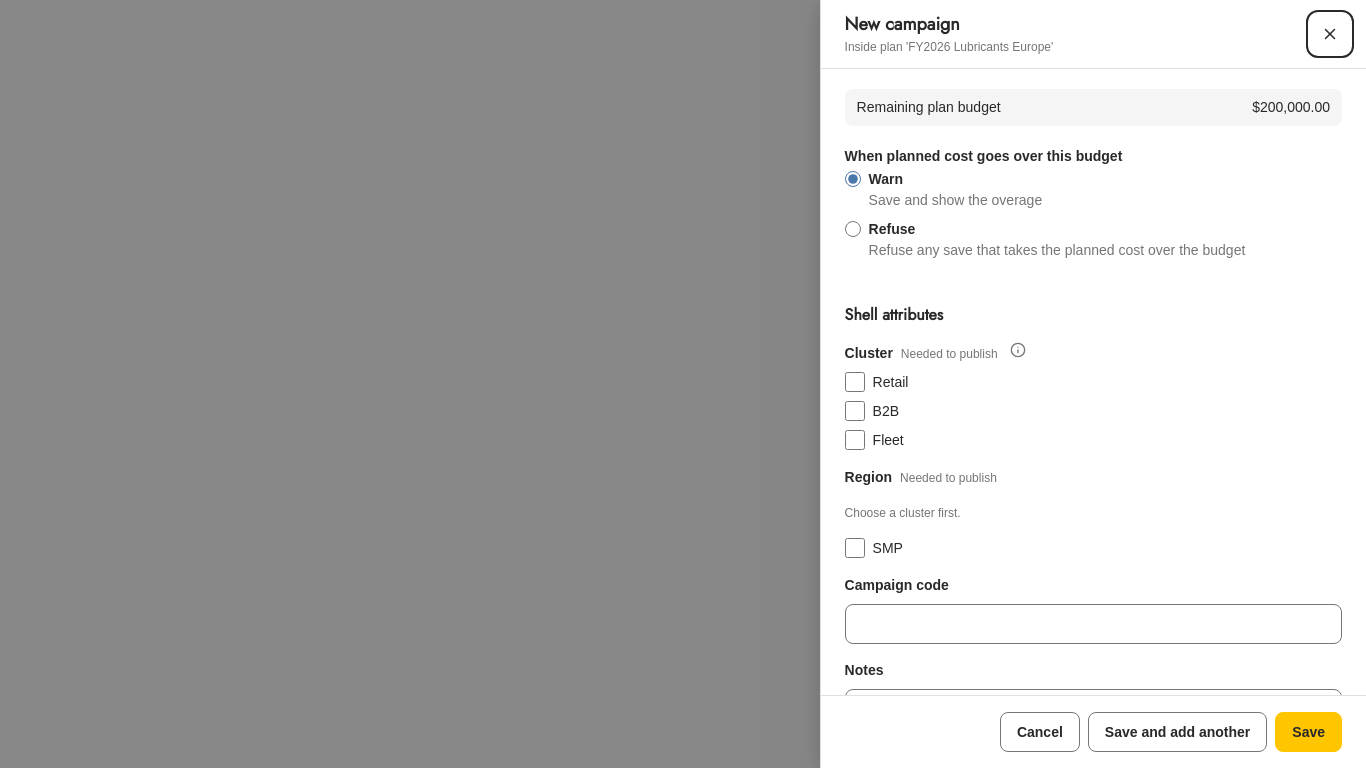
Scenario: NewCampaignPanel (feature 005, US1) › locks Region until a cluster is chosen and fills in a single region (US1#2, FR-009)
The image size is (1366, 768).
(page scrolled)
Expected: the text "Choose a cluster first." is shown, [845,506,961,520]
Click the checkbox labelled "Retail" at coordinates (855, 382), box [845,372,865,392]
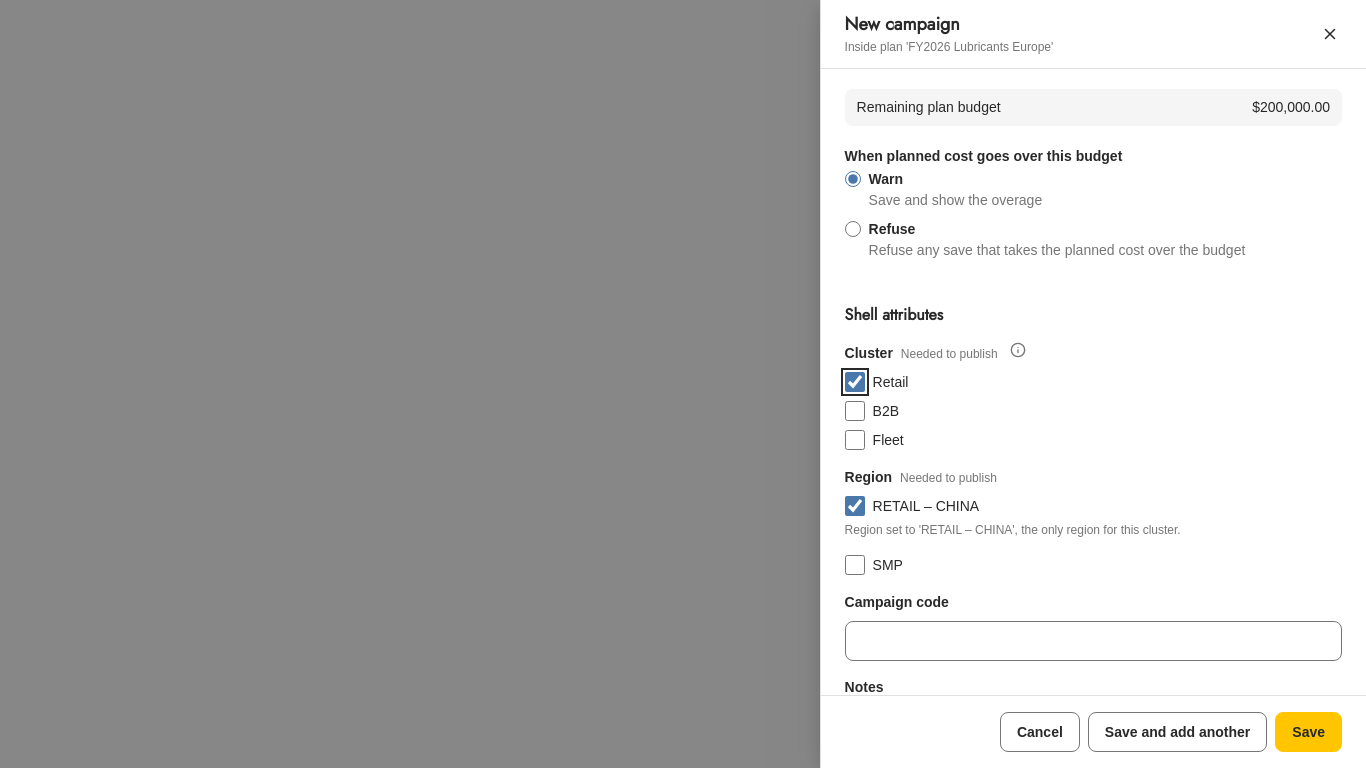
Now the text "Region set to 'RETAIL – CHINA', the only region for this cluster." is shown, box [845,523,1181,537]
Now the checkbox labelled "RETAIL – CHINA" is checked, box [845,496,865,516]
